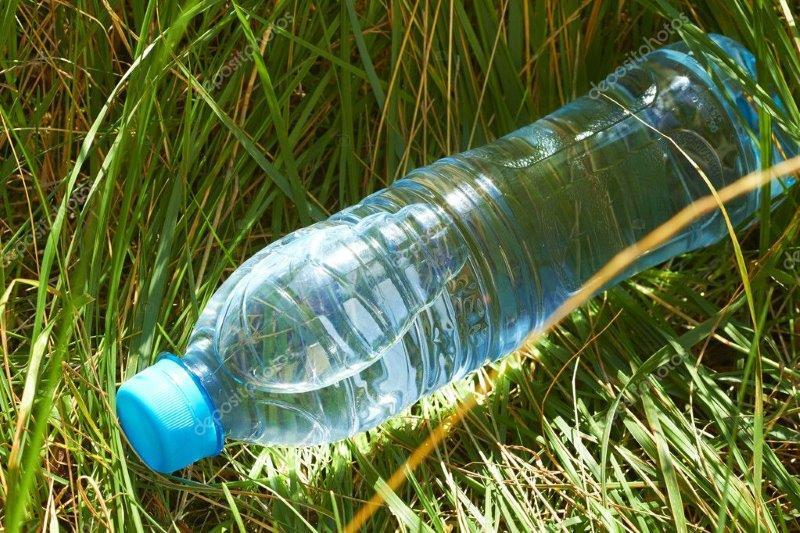plastic: (114, 32, 796, 476)
